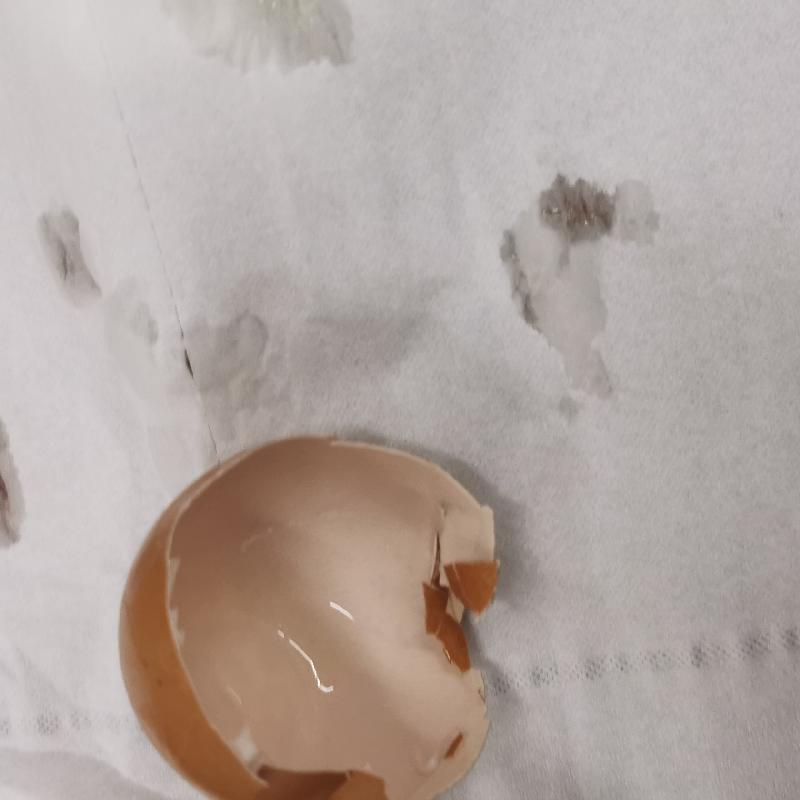eggshell: (114, 429, 509, 800)
